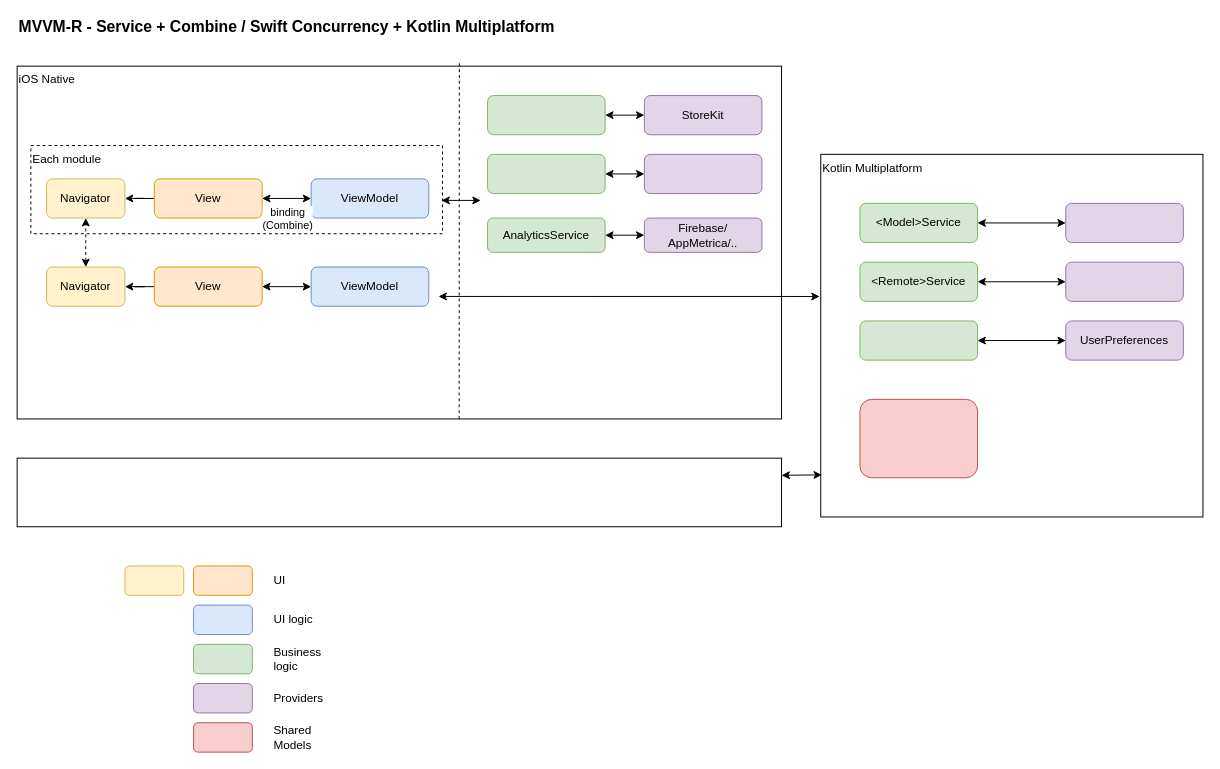
Some shapes in this 1220 by 769 pixel diagram are drawn without their labels. Each missing label, with the centre of its shape:
"Android Native" belongs at [399,492].
"Database (SQLDelight)" belongs at [1124,222].
"ImageService" belongs at [546,173].
"Models" belongs at [918,438].
"Network (Ktor)" belongs at [1124,281].
"OpenCV/CoreImage" belongs at [702,173].
"PaymentService" belongs at [546,115].
"PreferenceService" belongs at [918,340].
